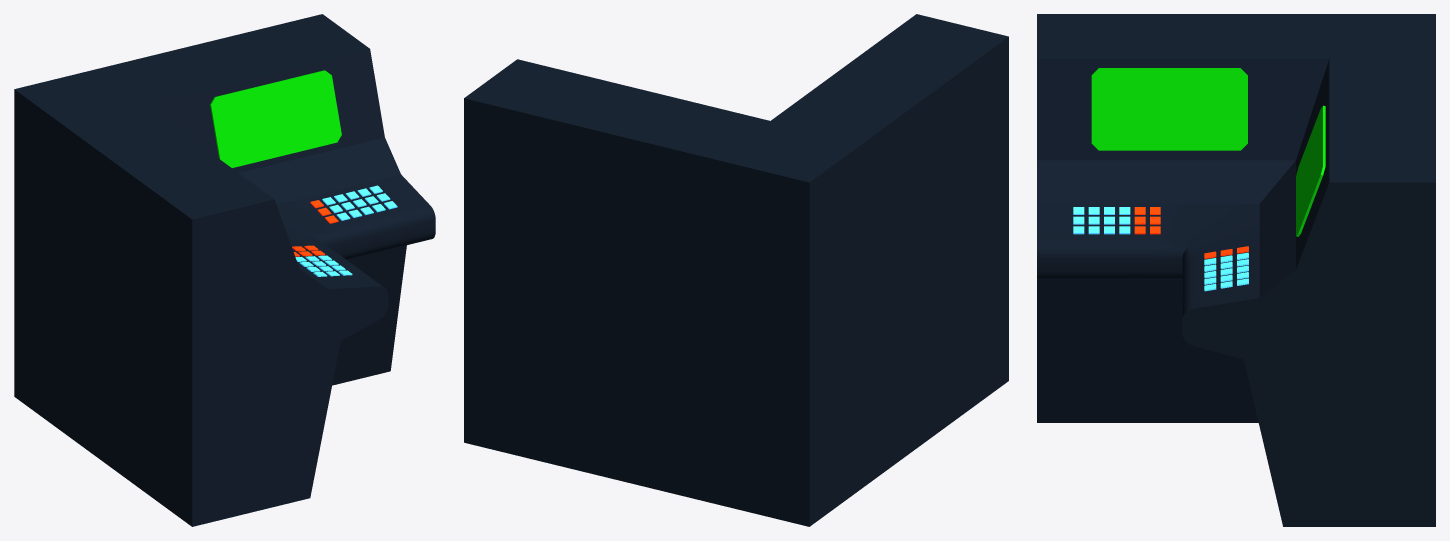
Rendered from Corner_Control_h.fbx.
The picture shows the model from 3 angles, left to right: view 1: azimuth 30°, elevation 25°; view 2: azimuth 150°, elevation 25°; view 3: azimuth 270°, elevation 25°; orthographic projection. The views are drawn at different scales.
Visible parts, largest first — view 1: Cube.048; view 2: Cube.048; view 3: Cube.048.
Part boxes in pixels (left/top/right/bottom): Cube.048: left=14, top=14, right=435, bottom=526; Cube.048: left=464, top=14, right=1008, bottom=526; Cube.048: left=1037, top=14, right=1435, bottom=526.
Size of the model in its own units: 140 by 140 by 133.
